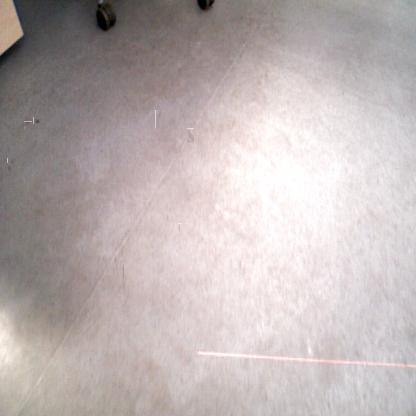mark: (155, 110, 162, 128), (186, 128, 194, 143), (120, 261, 124, 279), (33, 116, 40, 124), (8, 157, 15, 164), (25, 120, 32, 127), (6, 166, 12, 174), (178, 223, 182, 232)
